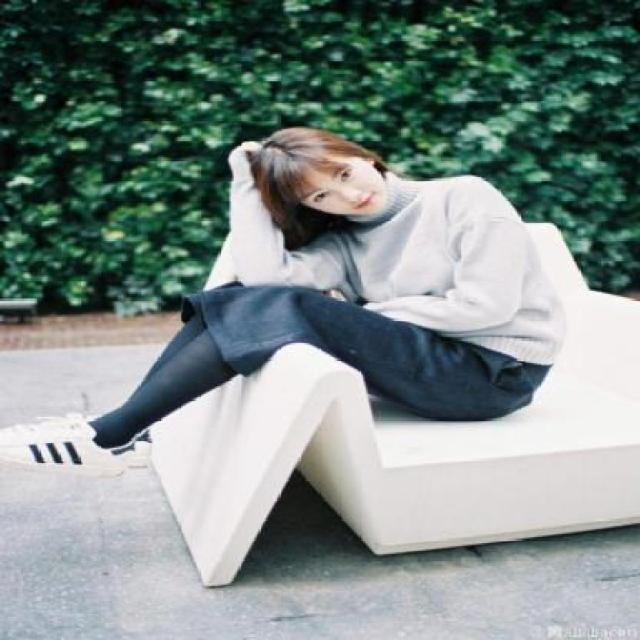Person: (15, 126, 593, 459)
